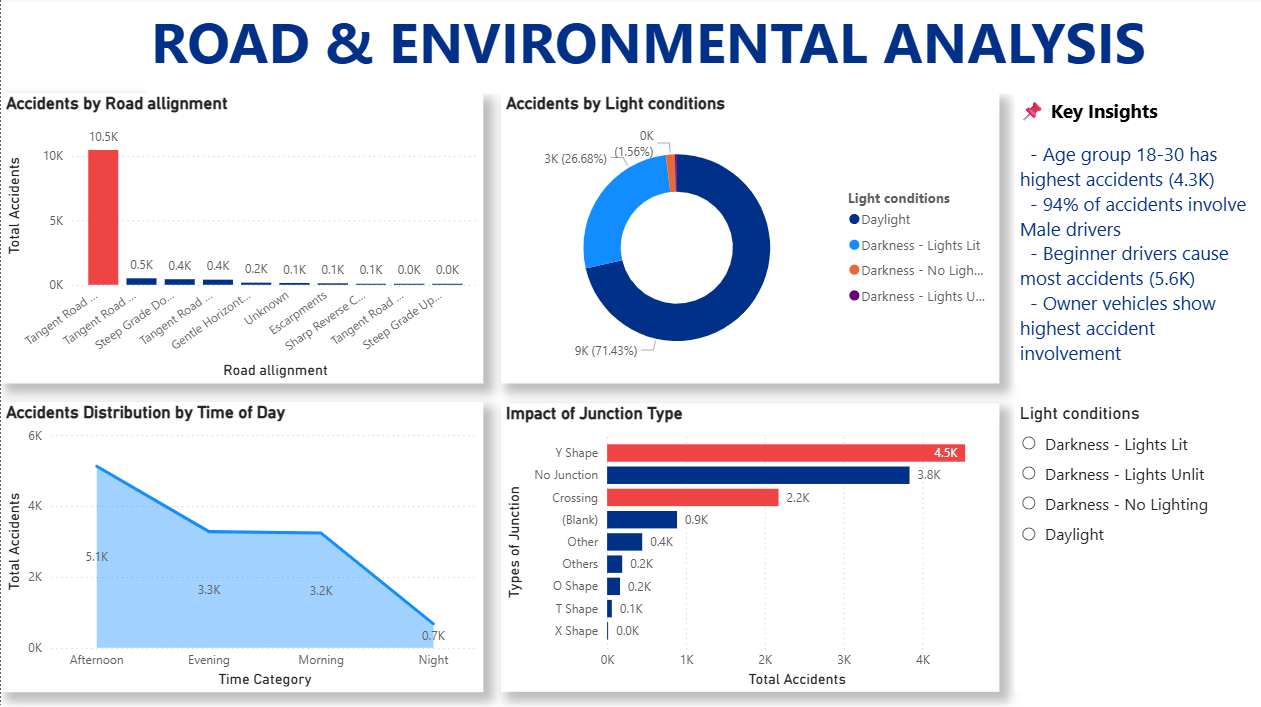

What the dashboard file says about the page in this screenshot:
{"tool":"powerbi","page":{"name":"Road & Environment Analysis","canvas":[1280,720],"ordinal":2},"visuals":[{"type":"columnChart","title":"Accidents by Road allignment","fields":{"Category":["RTA POWER BI.Road allignment"],"Y":["Measures (3).Total Accidents"]},"box":[0,95.8,480.2,288.6],"z":0},{"type":"barChart","title":"Impact of Junction Type","fields":{"Category":["RTA POWER BI.Types of Junction"],"Y":["Measures (3).Total Accidents"]},"box":[497.6,404.3,496.3,287.4],"z":1},{"type":"donutChart","title":"Accidents by Light conditions","fields":{"Category":["RTA POWER BI.Light conditions"],"Y":["Measures (3).Total Accidents"]},"box":[497.6,95.8,496.3,288.6],"z":2},{"type":"stackedAreaChart","title":"Accidents Distribution by Time of Day","fields":{"Category":["RTA POWER BI.Time Category"],"Y":["Measures (3).Total Accidents"]},"box":[0,403,480.2,288.6],"z":3},{"type":"textbox","box":[144.3,0,1023.8,95.8],"z":4},{"type":"textbox","box":[1008.9,95.8,238.8,288.6],"z":5},{"type":"listSlicer","fields":{"Values":["RTA POWER BI.Light conditions"]},"box":[1008.9,404.3,238.8,286.1],"z":6}]}

Visuals, with their boxes in screenshot pixels (x1, y1, x2, y2), scaled from the page's 1280x720 canvas onto the 1261x707 screenshot:
"Accidents by Road allignment" columnChart: locate(0, 94, 473, 377)
"Impact of Junction Type" barChart: locate(490, 397, 979, 679)
"Accidents by Light conditions" donutChart: locate(490, 94, 979, 377)
"Accidents Distribution by Time of Day" stackedAreaChart: locate(0, 396, 473, 679)
textbox: locate(142, 0, 1151, 94)
textbox: locate(994, 94, 1229, 377)
listSlicer - RTA POWER BI.Light conditions: locate(994, 397, 1229, 678)
